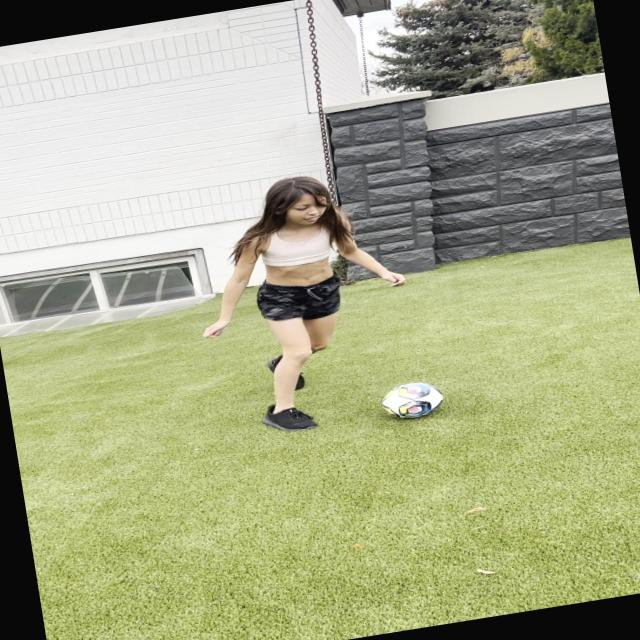Soccer Ball: (380, 378, 446, 422)
